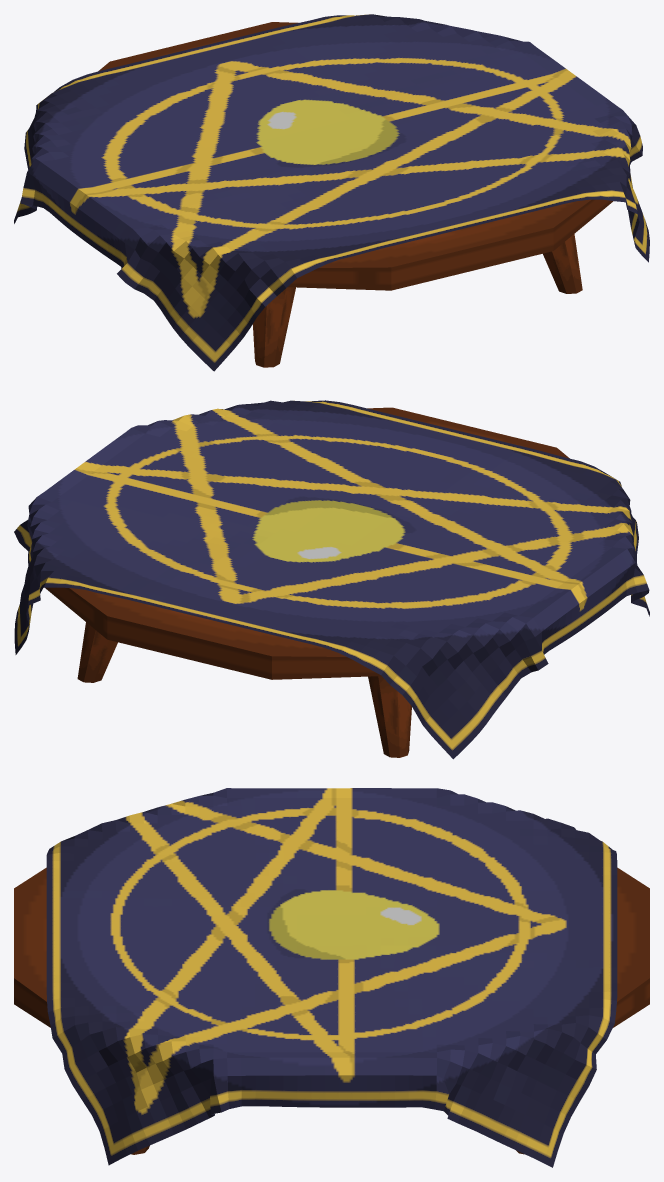
Rendered from mesa y mantel.fbx.
3 renders of one model, top to bottom at view 1: azimuth 30°, elevation 25°; view 2: azimuth 150°, elevation 25°; view 3: azimuth 270°, elevation 25°, orthographic. The views are drawn at different scales.
Parts seen in each view (by area): view 1: Plane, Cube; view 2: Plane, Cube; view 3: Plane, Cube.
Part boxes in pixels (x1=…): Plane: x1=14, y1=14, x2=649, y2=371; Cube: x1=98, y1=22, x2=613, y2=367; Plane: x1=14, y1=400, x2=649, y2=759; Cube: x1=45, y1=407, x2=569, y2=757; Plane: x1=46, y1=788, x2=617, y2=1167; Cube: x1=14, y1=867, x2=649, y2=1154.
Size of the model in its own units: 192 by 44.31 by 177.
2 materials, 2 textured.
